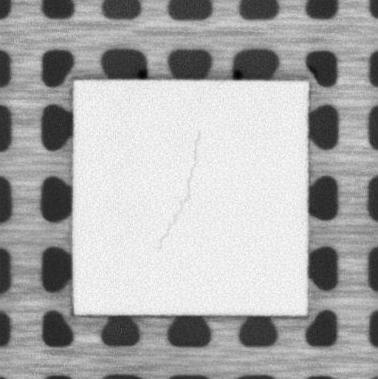DIE_CRACK: (162, 129, 202, 243)
